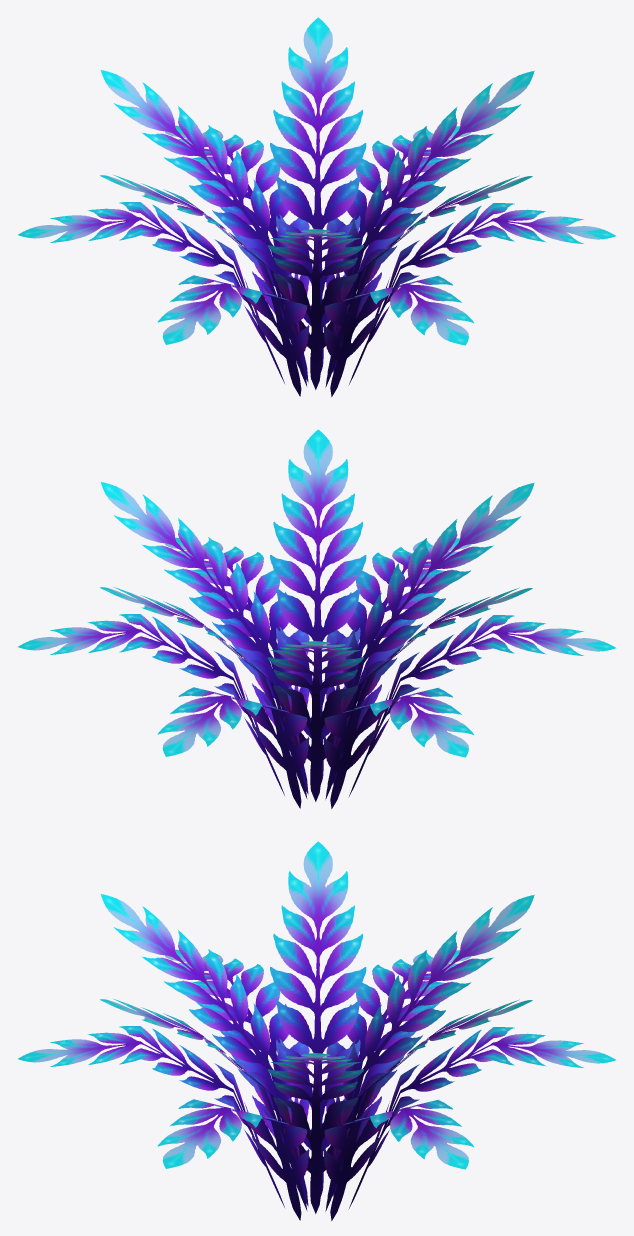
The model's file is Bush_02a.FBX.
3 views of the same model, one above another, from view 1: azimuth 30°, elevation 25°; view 2: azimuth 150°, elevation 25°; view 3: azimuth 270°, elevation 25° (orthographic).
Visible parts, largest first — view 1: Bush_02a; view 2: Bush_02a; view 3: Bush_02a.
Boxes of the visible parts, <box> form: Bush_02a: <box>18,17,616,396</box>; Bush_02a: <box>18,429,616,808</box>; Bush_02a: <box>18,841,616,1220</box>.
Bounding box in the file's own units: 203 × 103 × 214.
